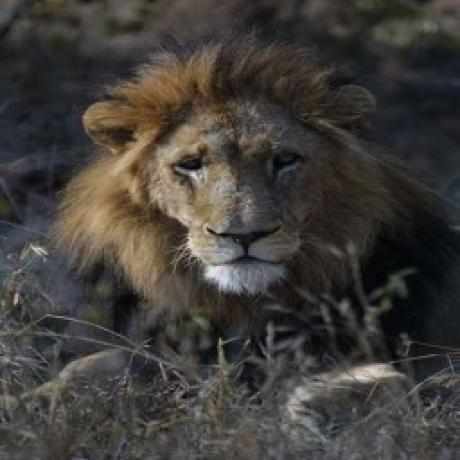Lion: (48, 36, 460, 361)
